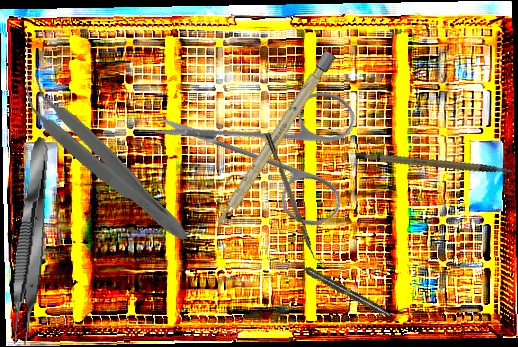Chopper: (265, 130, 324, 267)
Handpiece: (290, 257, 393, 320)
Iris Scissors: (148, 26, 396, 274)
Scalpel Handle: (212, 50, 337, 231), (355, 131, 515, 199)
Tissue Forceps: (10, 72, 201, 249), (5, 136, 57, 346)
